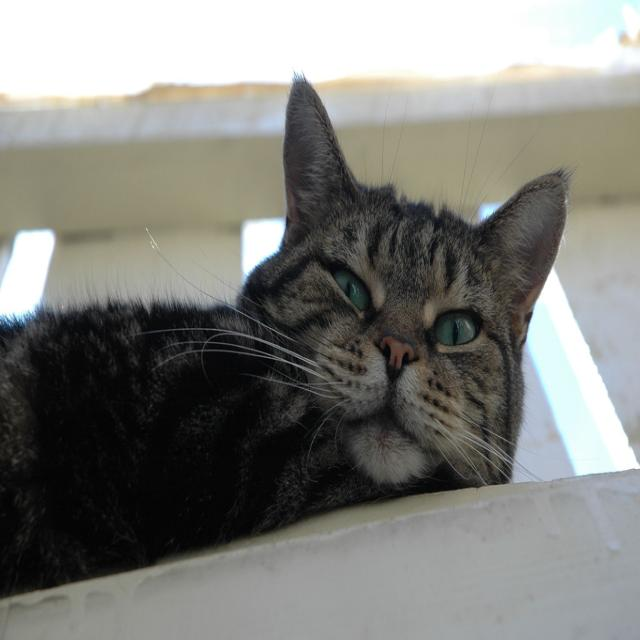cat: (2, 70, 579, 600)
